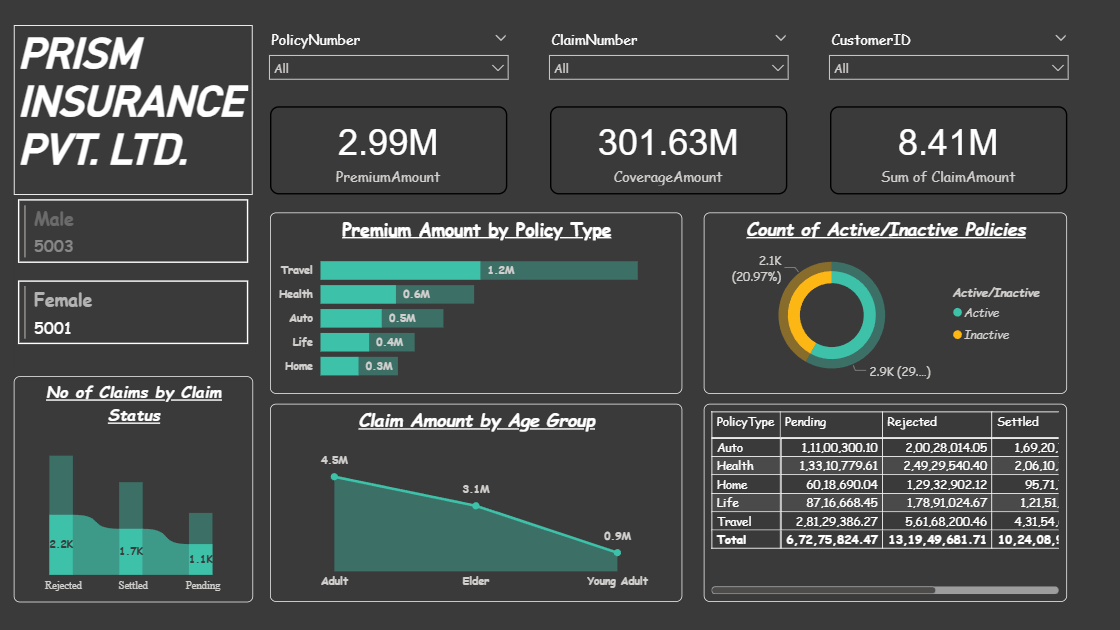

The dashboard page shown, as its layout file describes it:
{"tool":"powerbi","page":{"name":"Page 1","canvas":[1280,720],"ordinal":0},"visuals":[{"type":"slicer","fields":{"Values":["InsuranceData.PolicyNumber"]},"box":[296.5,27.9,294.2,82.6],"z":0},{"type":"slicer","fields":{"Values":["InsuranceData.ClaimNumber"]},"box":[617.4,27.9,294.2,82.6],"z":1},{"type":"slicer","fields":{"Values":["InsuranceData.CustomerID"]},"box":[937.2,27.9,294.2,82.6],"z":2},{"type":"textbox","box":[15.1,27.9,273.3,195.3],"z":3},{"type":"card","fields":{"Values":["Sum(InsuranceData.PremiumAmount)"]},"box":[308.1,122.1,270.9,101.2],"z":4},{"type":"card","fields":{"Values":["Sum(InsuranceData.CoverageAmount)"]},"box":[629.1,122.1,270.9,101.2],"z":5},{"type":"card","fields":{"Values":["Sum(InsuranceData.ClaimAmount)"]},"box":[948.8,122.1,270.9,101.2],"z":6},{"type":"multiRowCard","fields":{"Values":["CountNonNull(InsuranceData.Gender)","InsuranceData.Gender"]},"box":[15.1,223.3,273.3,197.7],"z":7},{"type":"ribbonChart","title":"No of Claims by Claim Status","fields":{"Category":["InsuranceData.ClaimStatus"],"Y":["CountNonNull(InsuranceData.ClaimStatus)"]},"box":[15.1,430.2,273.3,258.1],"z":8},{"type":"barChart","title":"Premium Amount by Policy Type","fields":{"Category":["InsuranceData.PolicyType"],"Y":["Sum(InsuranceData.PremiumAmount)"]},"box":[308.1,243,470.9,207],"z":9},{"type":"lineChart","title":"Claim Amount by Age Group","fields":{"Category":["InsuranceData.Age Group"],"Y":["Sum(InsuranceData.ClaimAmount)"]},"box":[308.1,461.6,470.9,226.7],"z":10},{"type":"donutChart","title":"Count of Active/Inactive Policies","fields":{"Category":["InsuranceData.Active/Inactive"],"Y":["CountNonNull(InsuranceData.Active/Inactive)"]},"box":[804.7,243,415.1,207],"z":11},{"type":"pivotTable","fields":{"Values":["Sum(InsuranceData.CoverageAmount)"],"Rows":["InsuranceData.PolicyType"],"Columns":["InsuranceData.ClaimStatus"]},"box":[804.7,461.6,415.1,226.7],"z":12}]}

Visuals, with their boxes in screenshot pixels (x1, y1, x2, y2), scaled from the page's 1280x720 canvas onto the 1120x630 screenshot:
slicer - InsuranceData.PolicyNumber: {"left": 259, "top": 24, "right": 517, "bottom": 97}
slicer - InsuranceData.ClaimNumber: {"left": 540, "top": 24, "right": 798, "bottom": 97}
slicer - InsuranceData.CustomerID: {"left": 820, "top": 24, "right": 1077, "bottom": 97}
textbox: {"left": 13, "top": 24, "right": 252, "bottom": 195}
card - Sum(InsuranceData.PremiumAmount): {"left": 270, "top": 107, "right": 507, "bottom": 195}
card - Sum(InsuranceData.CoverageAmount): {"left": 550, "top": 107, "right": 788, "bottom": 195}
card - Sum(InsuranceData.ClaimAmount): {"left": 830, "top": 107, "right": 1067, "bottom": 195}
multiRowCard - CountNonNull(InsuranceData.Gender) x InsuranceData.Gender: {"left": 13, "top": 195, "right": 252, "bottom": 368}
"No of Claims by Claim Status" ribbonChart: {"left": 13, "top": 376, "right": 252, "bottom": 602}
"Premium Amount by Policy Type" barChart: {"left": 270, "top": 213, "right": 682, "bottom": 394}
"Claim Amount by Age Group" lineChart: {"left": 270, "top": 404, "right": 682, "bottom": 602}
"Count of Active/Inactive Policies" donutChart: {"left": 704, "top": 213, "right": 1067, "bottom": 394}
pivotTable - Sum(InsuranceData.CoverageAmount) x InsuranceData.PolicyType: {"left": 704, "top": 404, "right": 1067, "bottom": 602}
